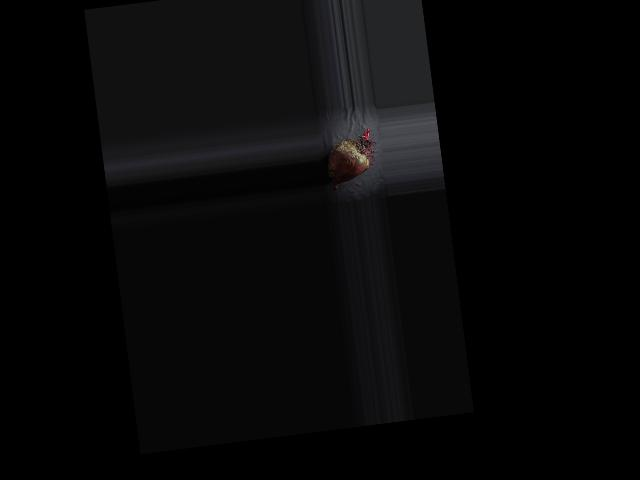beet: (323, 127, 381, 192)
